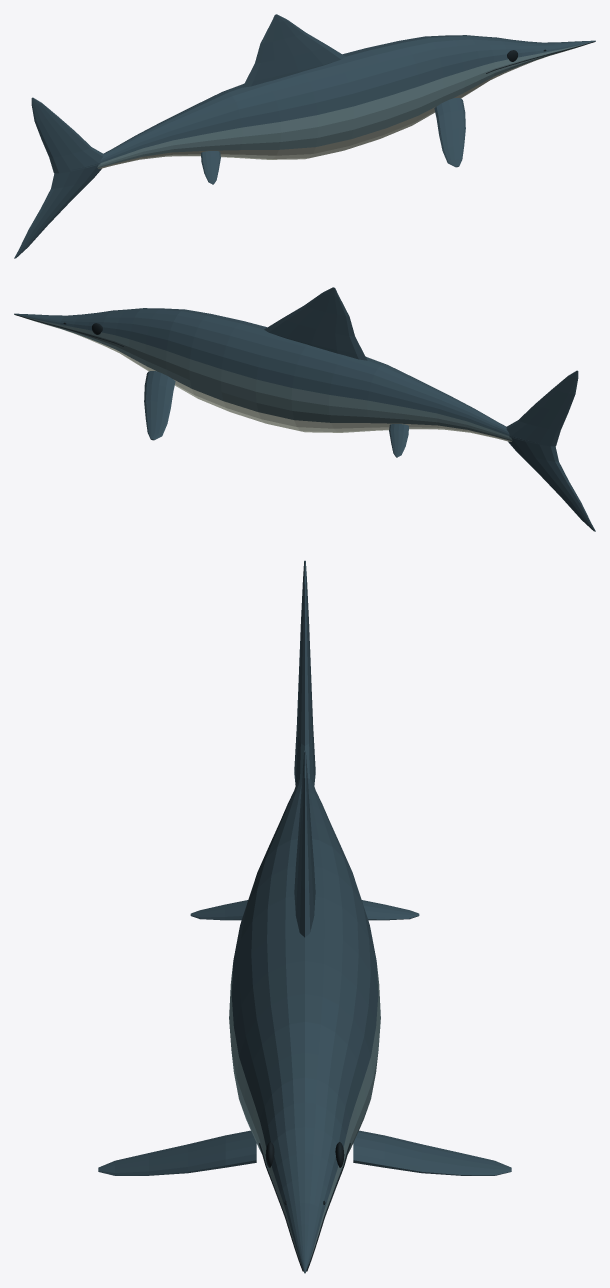
3 views of the same model, one above another, from view 1: azimuth 30°, elevation 25°; view 2: azimuth 150°, elevation 25°; view 3: azimuth 270°, elevation 25° (orthographic). The views are drawn at different scales.
Parts seen in each view (by area): view 1: Continuous_fusiform_body_and_matching_jaws, Vertical_lunate_caudal_fin, Single_swept_dorsal_fin, Narrow_foreflipper_near, Small_hindflipper_near; view 2: Continuous_fusiform_body_and_matching_jaws, Vertical_lunate_caudal_fin, Single_swept_dorsal_fin, Narrow_foreflipper_far, Small_hindflipper_far; view 3: Continuous_fusiform_body_and_matching_jaws, Narrow_foreflipper_far, Narrow_foreflipper_near, Vertical_lunate_caudal_fin, Single_swept_dorsal_fin.
Boxes of the visible parts, box(x1,y1,x2,y2) form: Continuous_fusiform_body_and_matching_jaws: box(97, 35, 595, 168); Vertical_lunate_caudal_fin: box(14, 97, 103, 258); Single_swept_dorsal_fin: box(242, 14, 345, 87); Narrow_foreflipper_near: box(434, 98, 465, 167); Small_hindflipper_near: box(201, 151, 220, 184); Continuous_fusiform_body_and_matching_jaws: box(14, 308, 512, 441); Vertical_lunate_caudal_fin: box(506, 370, 595, 531); Single_swept_dorsal_fin: box(264, 287, 367, 360); Narrow_foreflipper_far: box(144, 371, 175, 440); Small_hindflipper_far: box(389, 424, 408, 457); Continuous_fusiform_body_and_matching_jaws: box(229, 778, 380, 1273); Narrow_foreflipper_far: box(353, 1130, 511, 1175); Narrow_foreflipper_near: box(98, 1130, 256, 1175); Vertical_lunate_caudal_fin: box(294, 560, 315, 785); Single_swept_dorsal_fin: box(294, 750, 315, 937).
Bounding box in the file's own units: 2.3 × 0.68 × 0.708.
